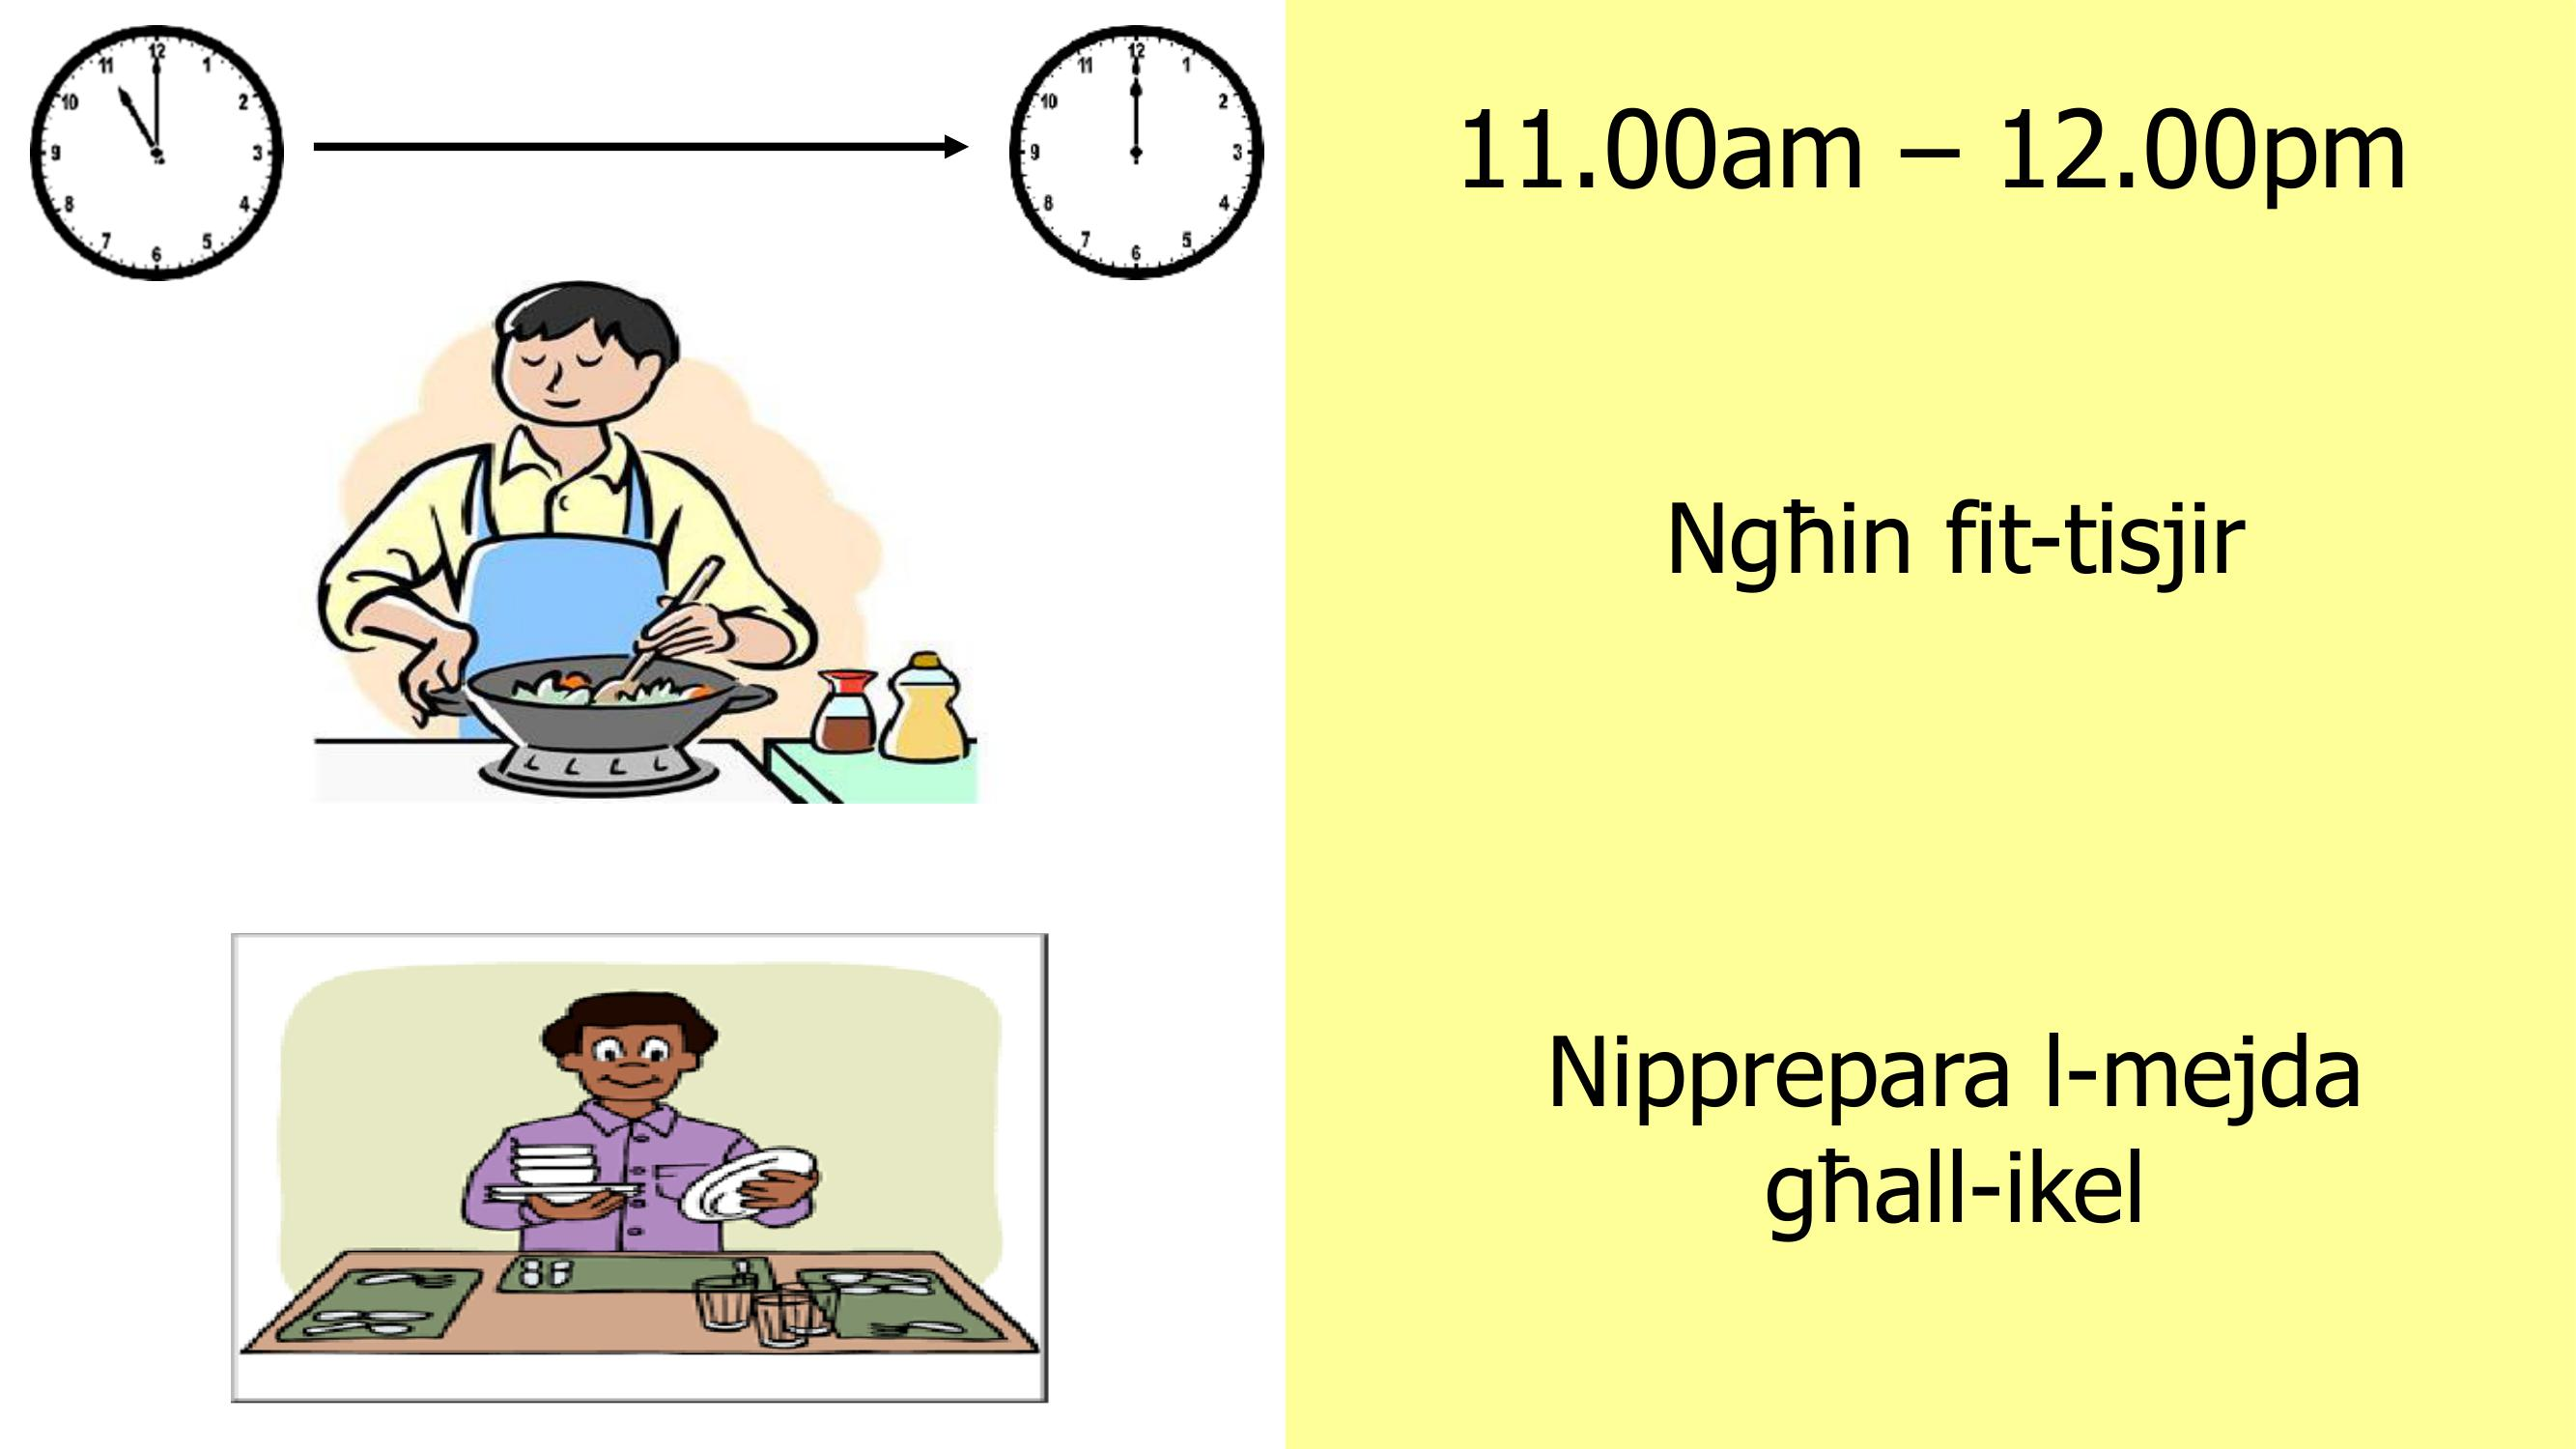text: (1479, 412, 2415, 1276)
